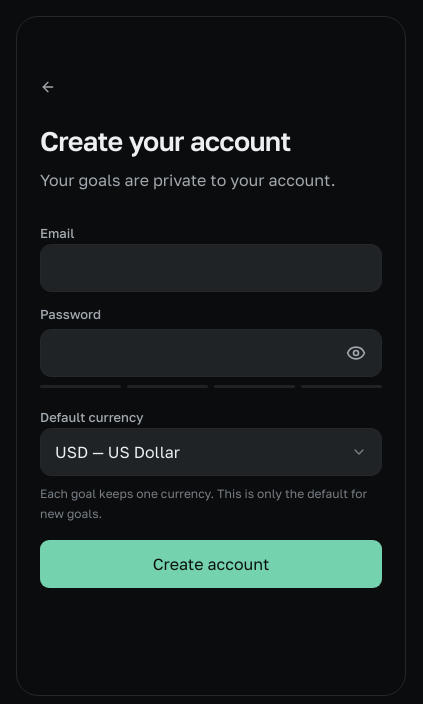
it: M1 web identity flows › uses an accessible eye control and reports password strength on sign-up
Check: the element named "Password strength: 0 of 4" is shown, box [40,384,382,388]
Type "Strong-password-42" into the password field labelled "Password" at (211, 352), box [40,328,382,376]
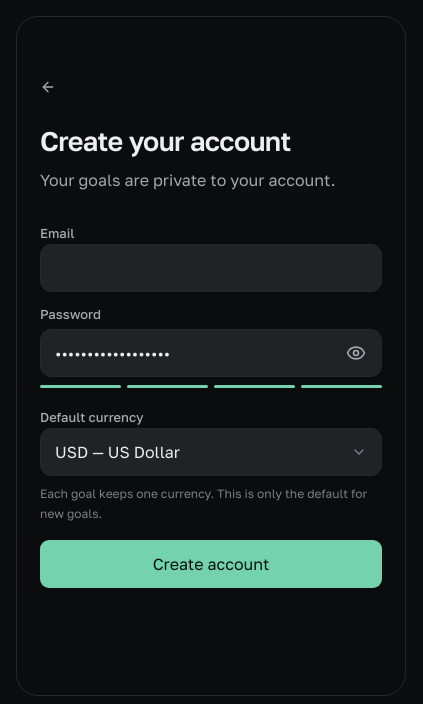
Check: the element named "Password strength: 4 of 4" is shown, box [40,384,382,388]
Click the button named "Show password" at (356, 352), box [334,330,378,374]
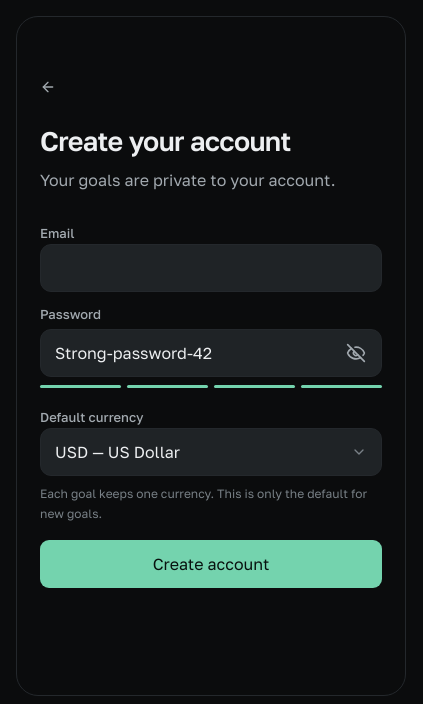
Check: the field labelled "Password" shows its text, box [40,328,382,376]
Check: the button named "Hide password" is shown, box [334,330,378,374]
